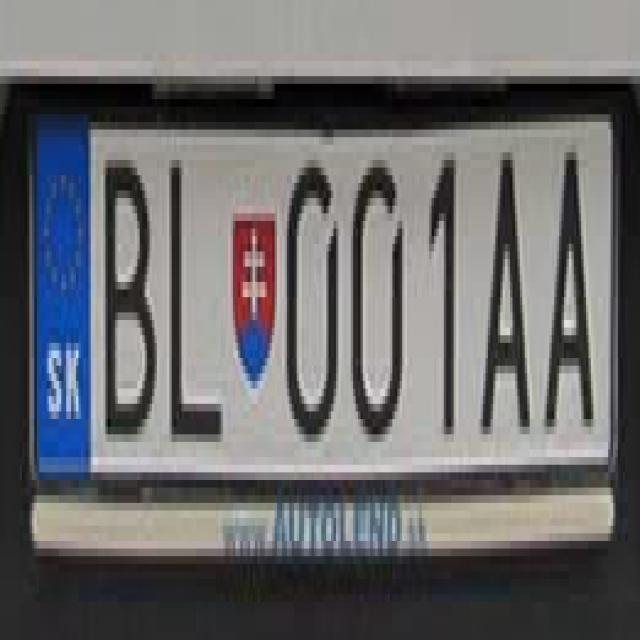EU: (29, 103, 623, 563)
Slovaquie: (33, 111, 92, 477)
